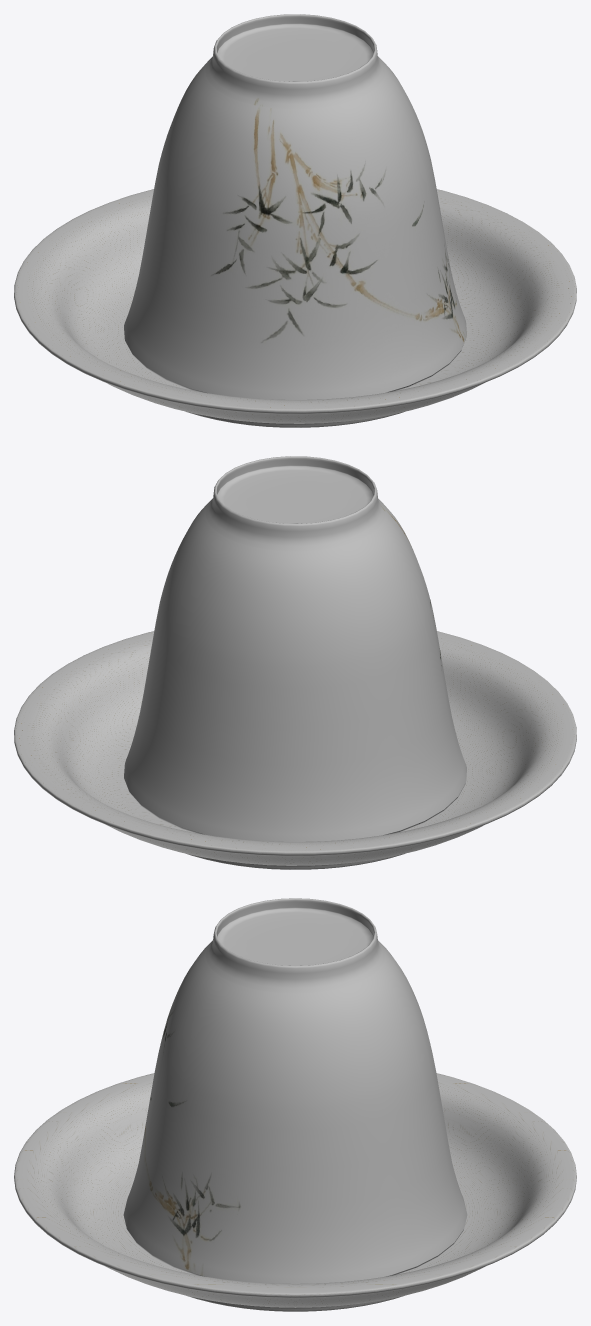
The model's file is putonggaiwan.glb.
3 views of the same model, one above another, from view 1: azimuth 30°, elevation 25°; view 2: azimuth 150°, elevation 25°; view 3: azimuth 270°, elevation 25° (orthographic).
Visible parts, largest first — view 1: putonggaiwan; view 2: putonggaiwan; view 3: putonggaiwan.
Boxes of the visible parts, bbox=[...] form: putonggaiwan: bbox=[14, 14, 576, 427]; putonggaiwan: bbox=[14, 456, 576, 869]; putonggaiwan: bbox=[14, 898, 576, 1311].
Size of the model in its own units: 0.1324 by 0.079 by 0.1324.
Materials: 1 (1 with a texture image).
